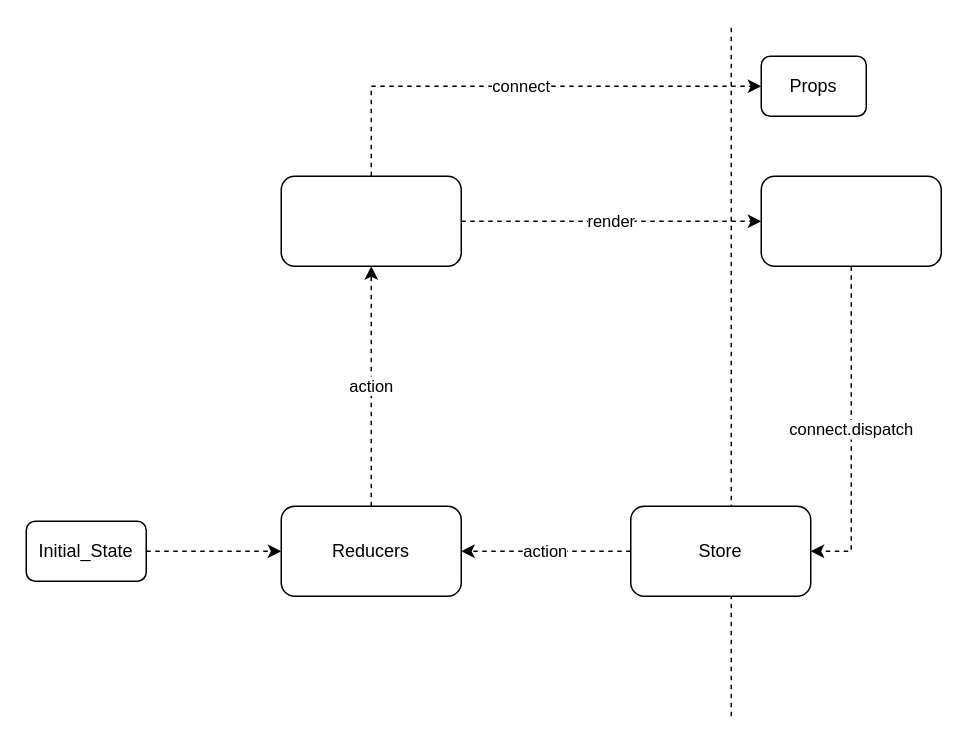
Some shapes in this 968 by 744 pixel diagram are drawn without their labels. Each missing label, with the centre of its shape:
State: [370,220]
UI: [850,220]
